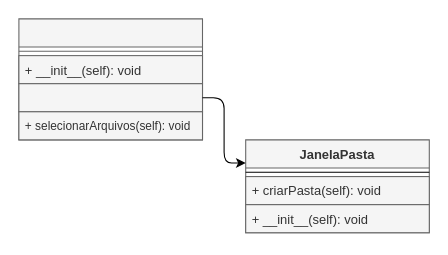
Image size: 448x255. Some labels were removed from this diagram. Here are the shapes that lost their labels. From the top down, the box of each, then its label:
(18, 18, 202, 140): MainWindow
(18, 83, 202, 112): + janelaCriarPasta(self): void
